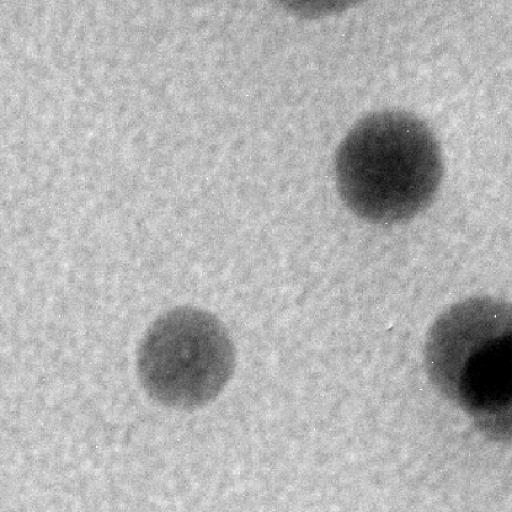Nanoparticles: (326, 114, 456, 218), (130, 306, 233, 408), (410, 294, 512, 374), (461, 330, 512, 448)
